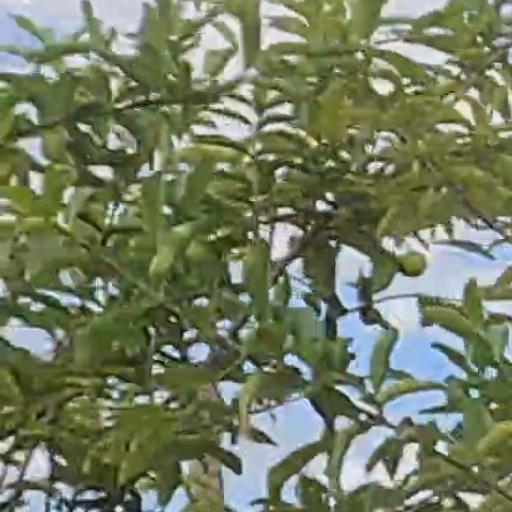acerola_verde: (401, 253, 427, 275)
